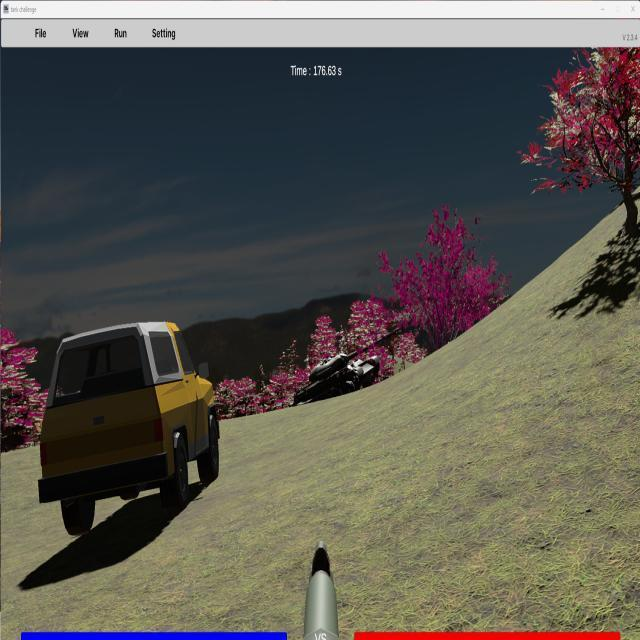Tank: (292, 326, 402, 408)
car: (39, 321, 221, 536)
